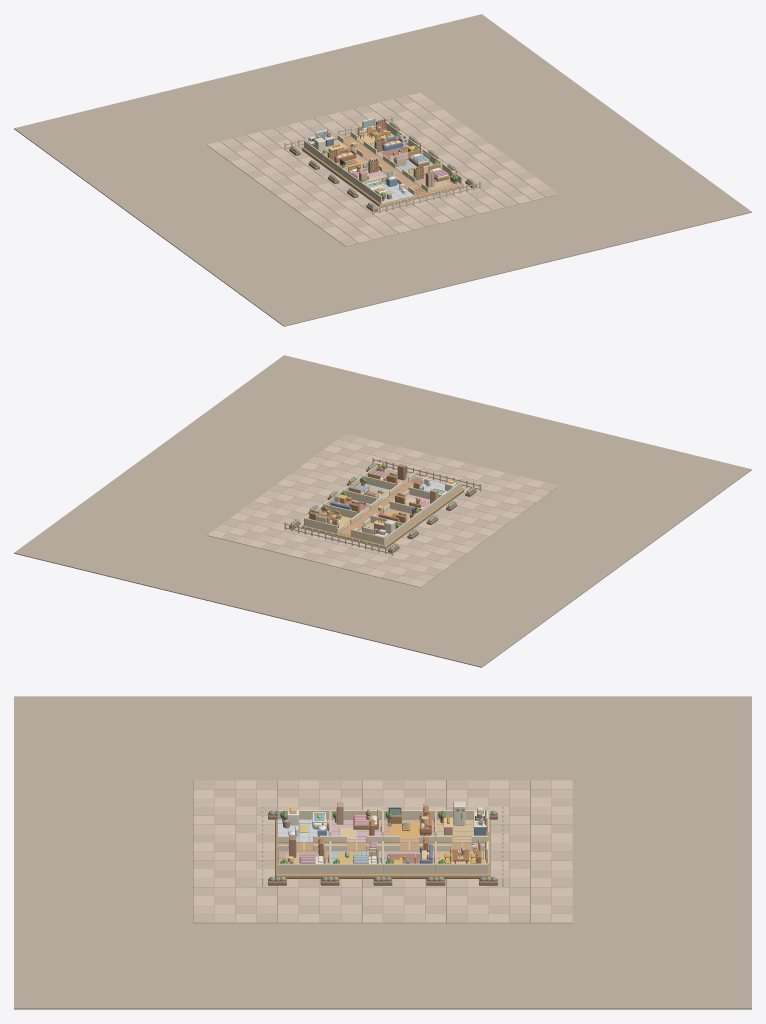
The model's file is house.glb.
3 views of the same model, one above another, from view 1: azimuth 30°, elevation 25°; view 2: azimuth 150°, elevation 25°; view 3: azimuth 270°, elevation 25° (orthographic). The views are drawn at different scales.
Parts seen in each view (by area): view 1: house; view 2: house; view 3: house.
Boxes of the visible parts, left/top/right/bottom form: house: left=14, top=14, right=751, bottom=326; house: left=14, top=355, right=751, bottom=667; house: left=14, top=696, right=751, bottom=1009.
Bounding box in the file's own units: 70 × 3.01 × 70.
